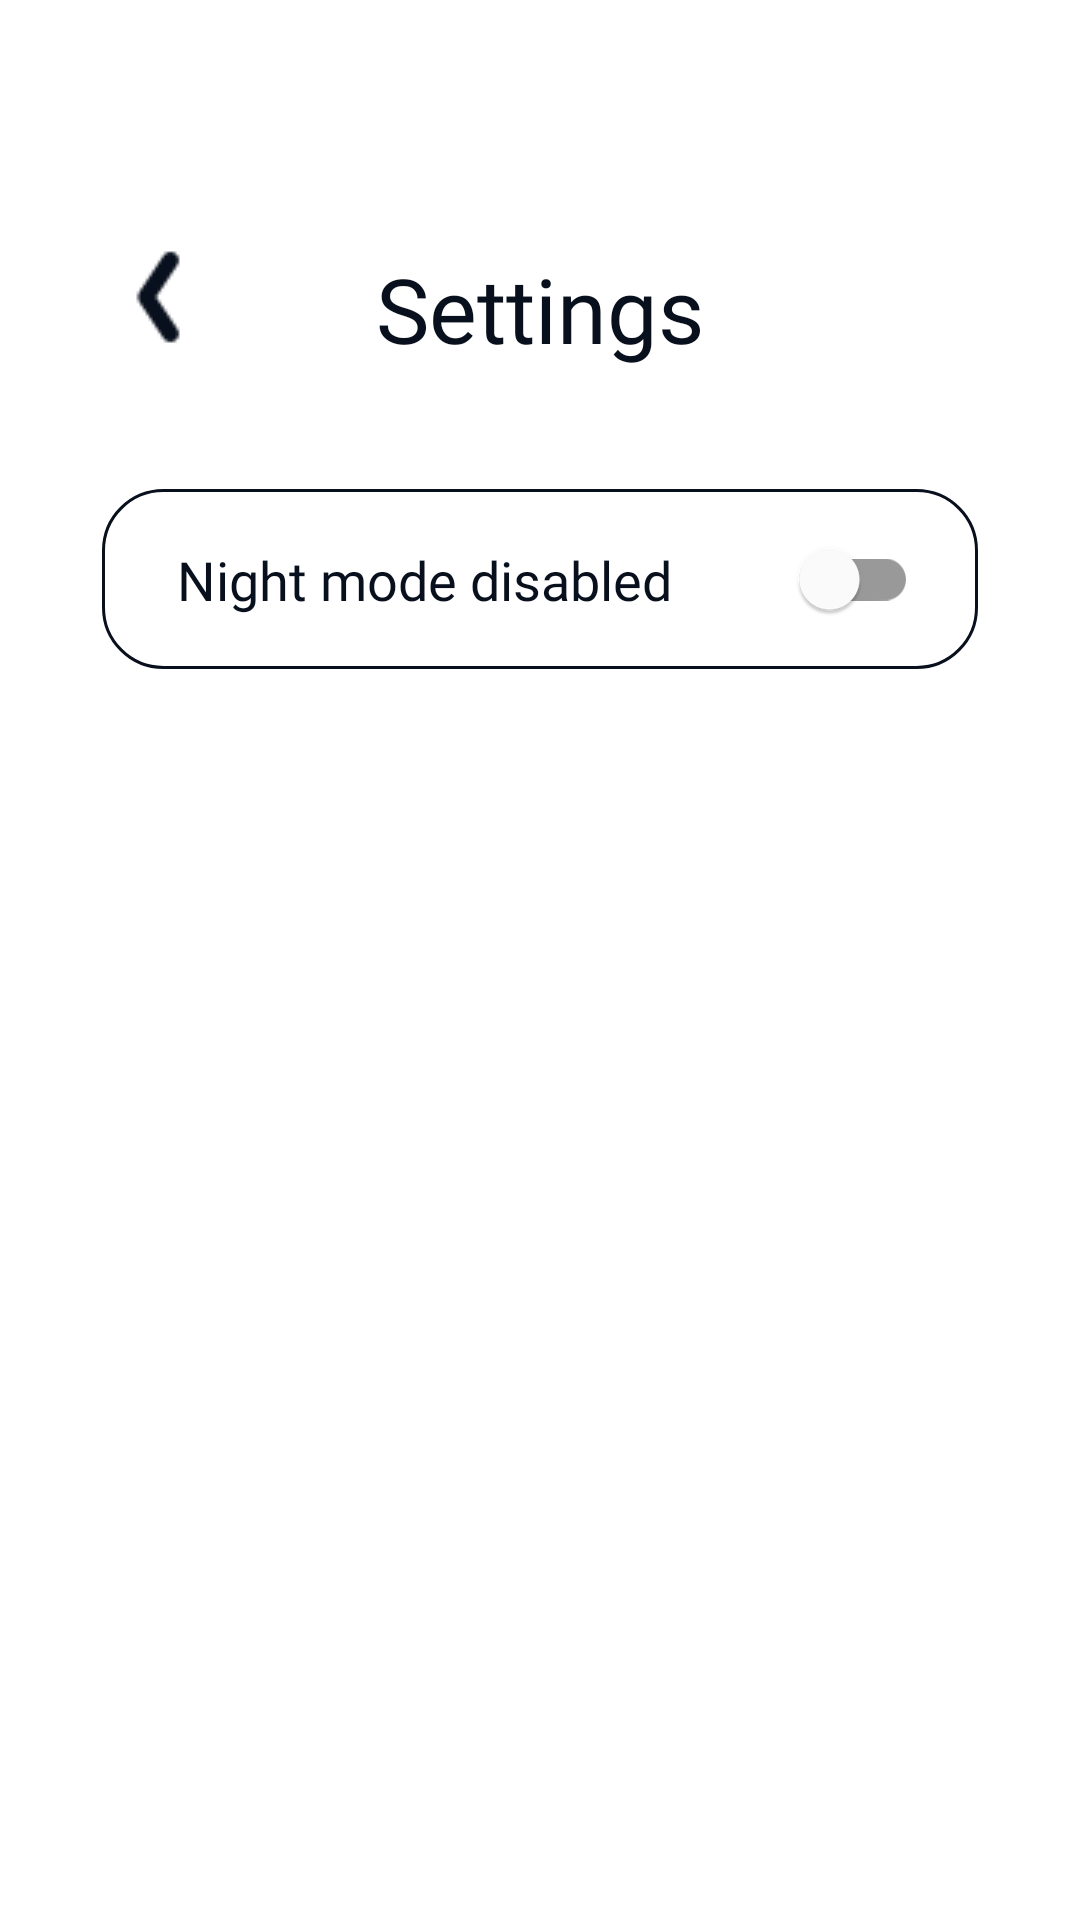

Icon click points for this 1080 x 1920 phone screenshot, format point (x, y):
Chevron: point (158, 297)
